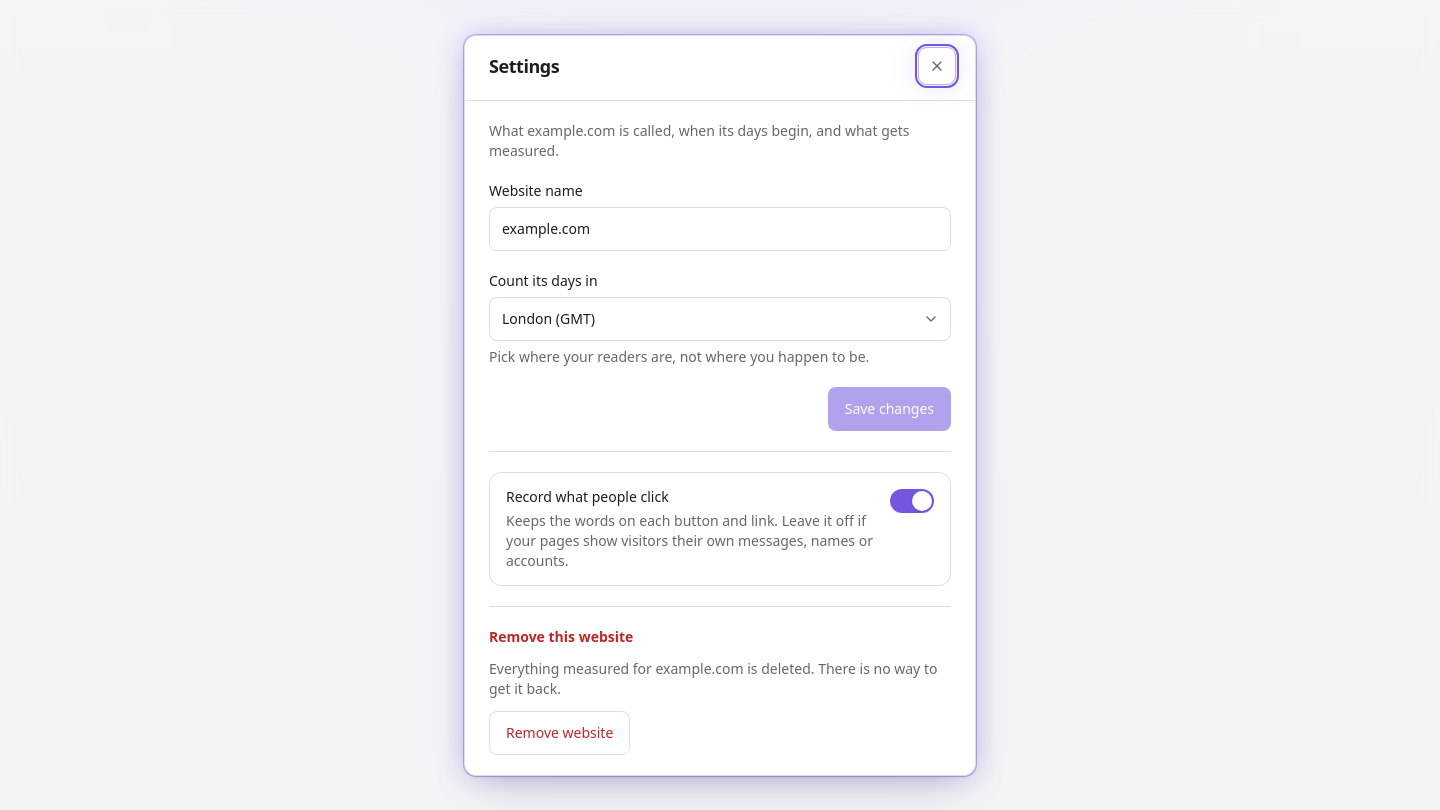
it: what a website is called and when its days begin › says why a zone was refused rather than showing it as saved
Select "Tokyo (GMT+9:00)" in the dropdown labelled "Count its days in" at (720, 318), box [489,296,951,340]
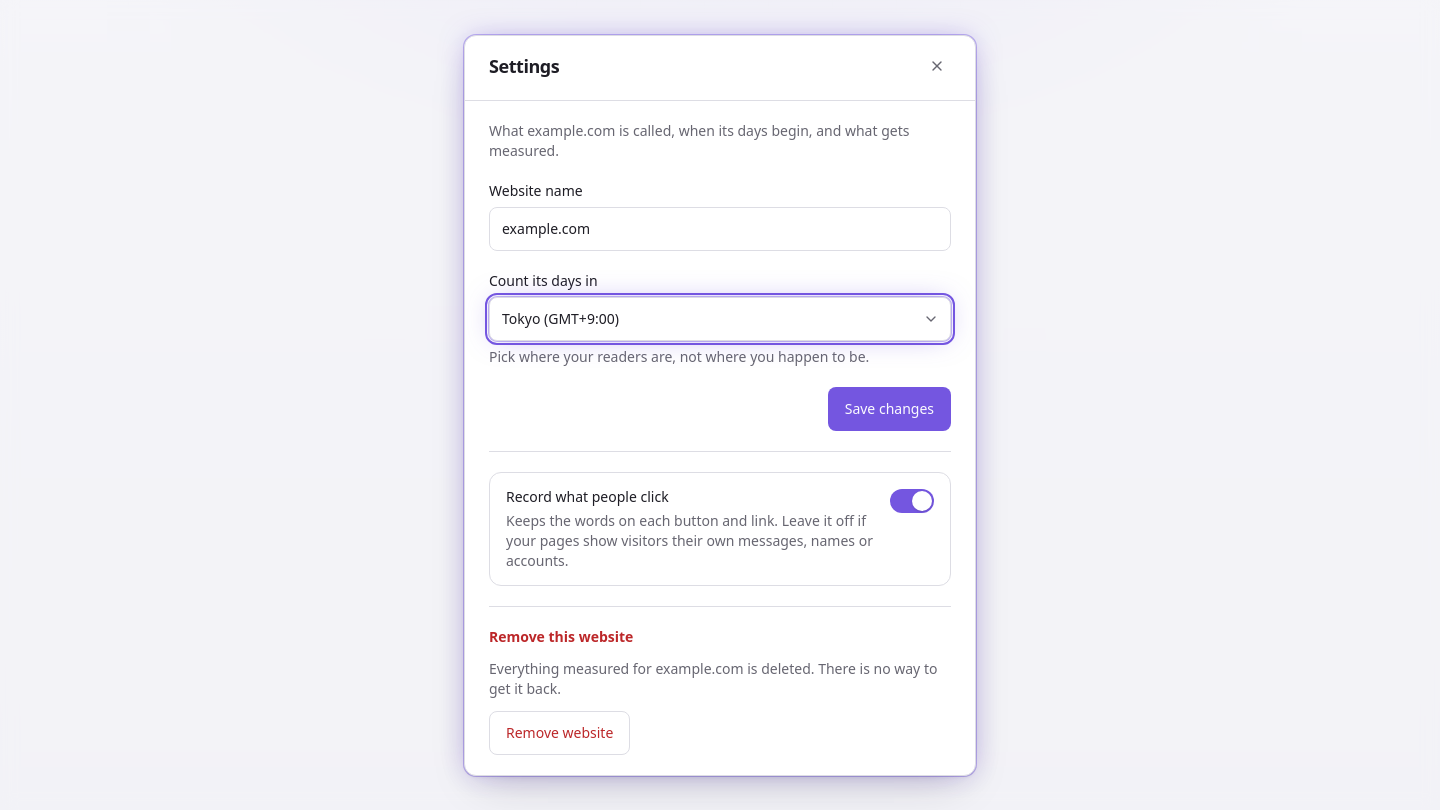
Click the button "Save changes".
click(889, 408)  # box [828,386,951,430]
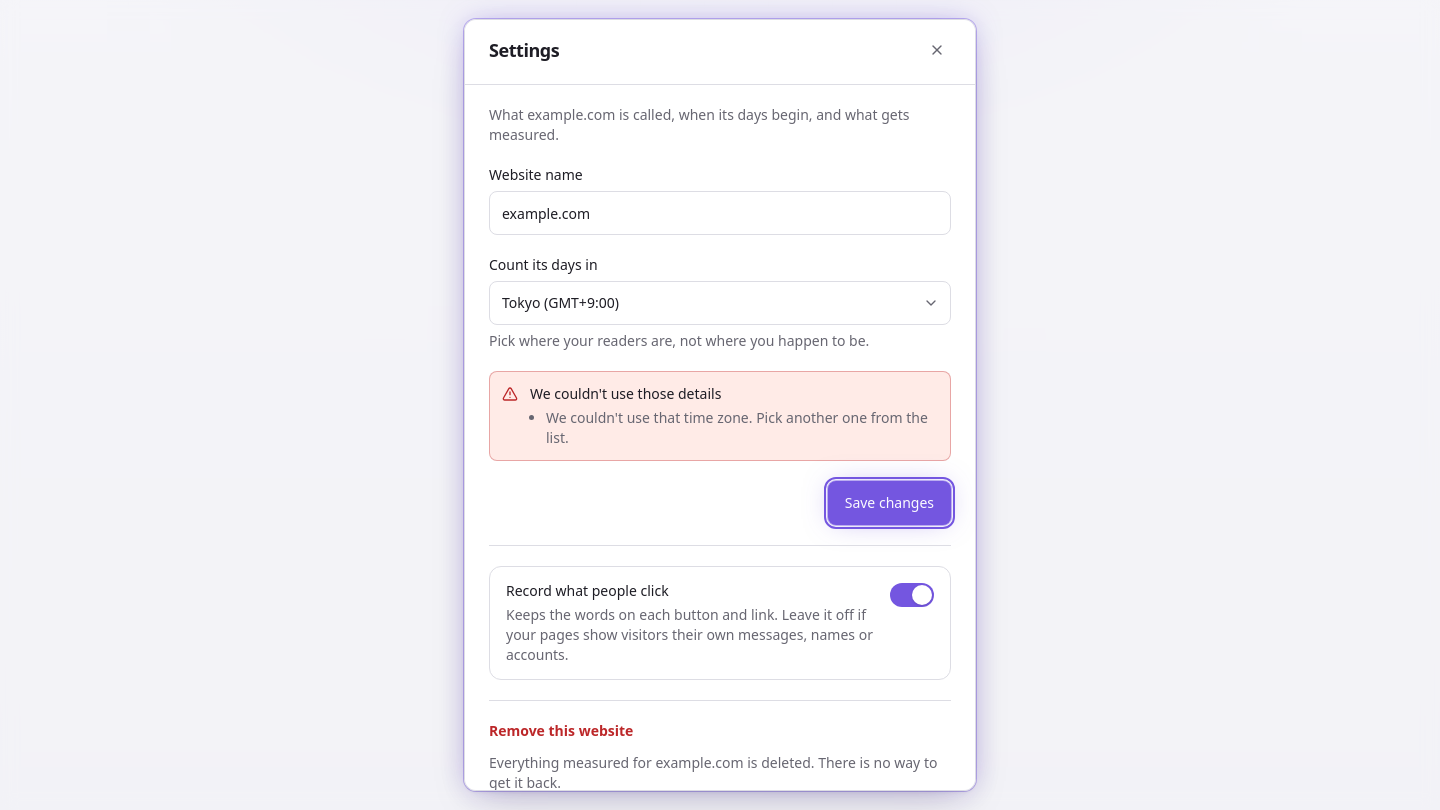
Result: the list item "We couldn't use that time zone. Pick another one from the list." is shown at [546,408,938,448]
